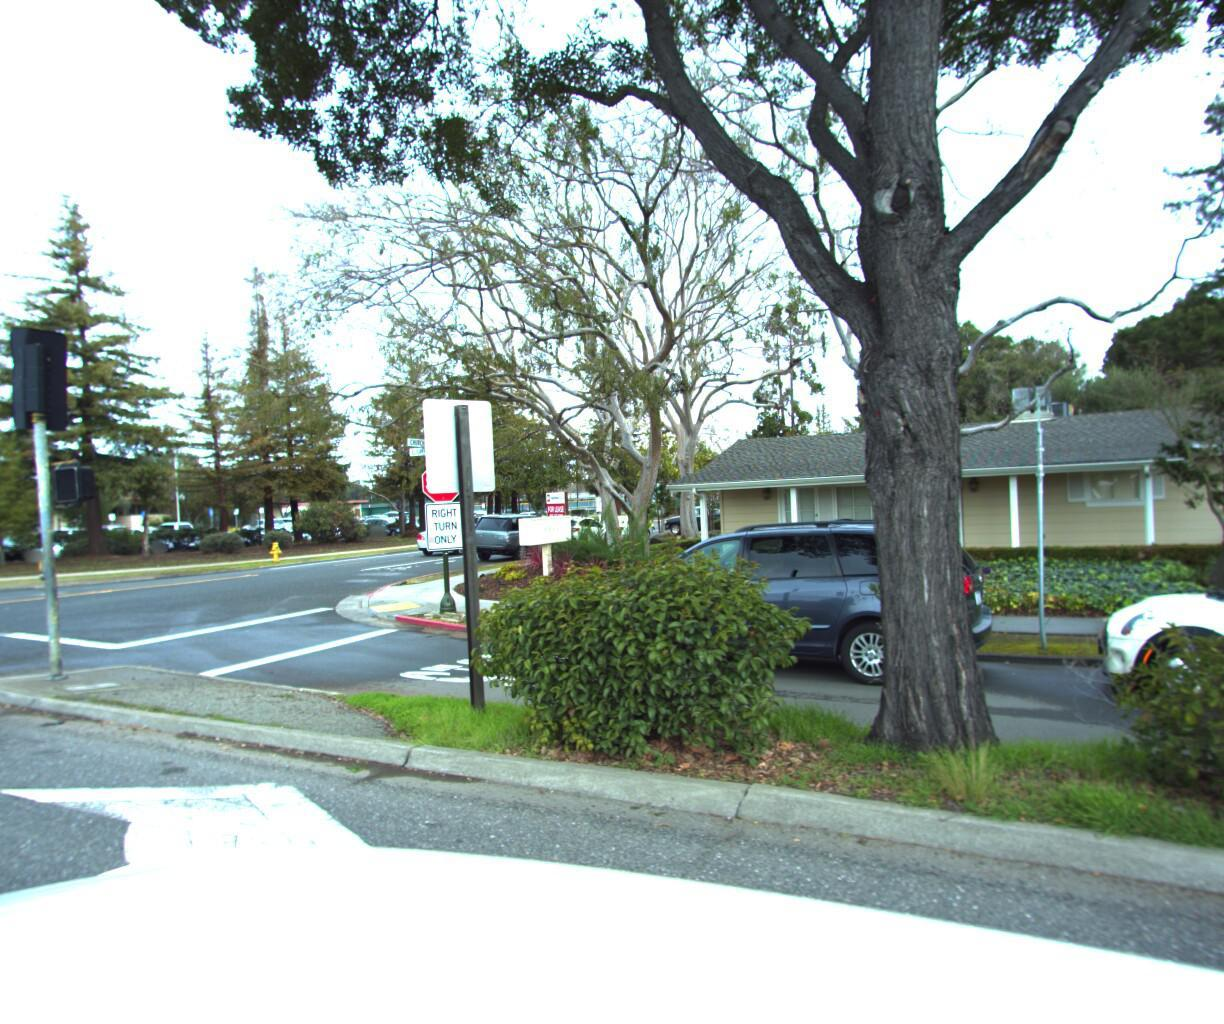car: (549, 506, 984, 695), (1086, 527, 1224, 754), (460, 502, 568, 559), (412, 508, 503, 551), (660, 496, 748, 529), (586, 505, 657, 540)
